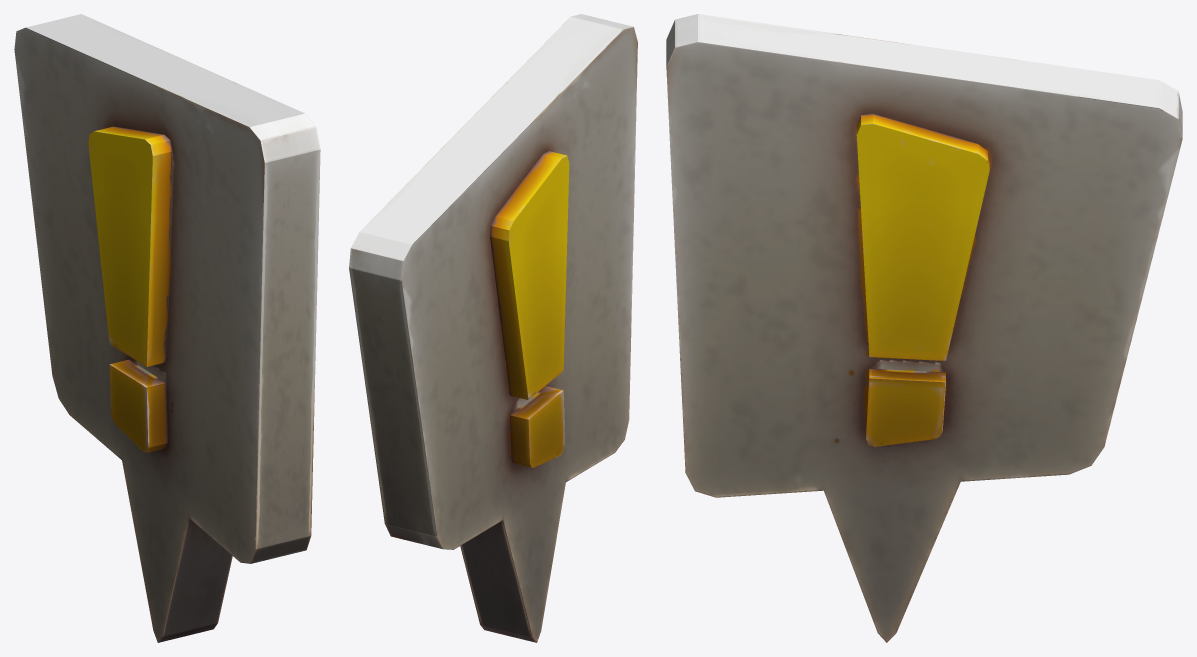
Rendered from ExclamationMarkBubble1.dae.
3 renders of one model, left to right at view 1: azimuth 30°, elevation 25°; view 2: azimuth 150°, elevation 25°; view 3: azimuth 270°, elevation 25°, orthographic. The views are drawn at different scales.
Parts seen in each view (by area): view 1: Cube; view 2: Cube; view 3: Cube.
Boxes of the visible parts, bbox=[...] form: Cube: bbox=[14, 14, 320, 642]; Cube: bbox=[349, 14, 637, 642]; Cube: bbox=[666, 14, 1182, 642].
Bounding box in the file's own units: 0.5493 × 2.5 × 3.22.
1 material, 1 textured.
